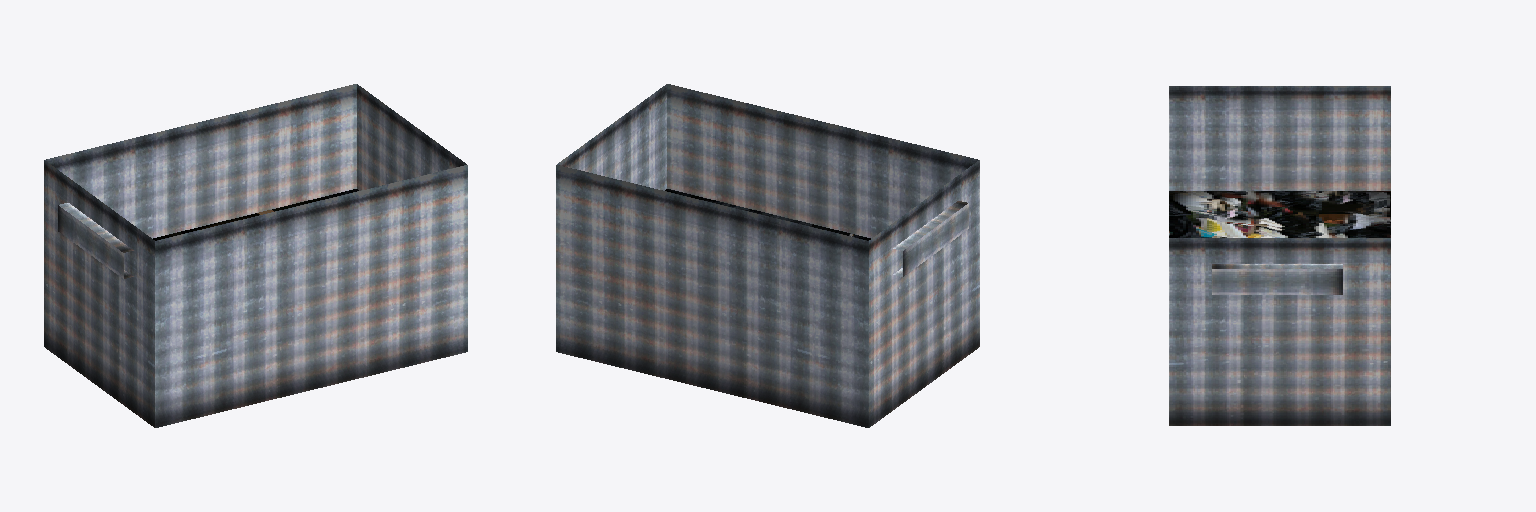
The picture shows the model from 3 angles: view 1: azimuth 30°, elevation 25°; view 2: azimuth 150°, elevation 25°; view 3: azimuth 270°, elevation 25°; orthographic projection.
Visible parts, largest first — view 1: dumpster_5_v1; view 2: dumpster_5_v1; view 3: dumpster_5_v1.
Boxes of the visible parts, x1=… form: dumpster_5_v1: x1=44, y1=84, x2=467, y2=427; dumpster_5_v1: x1=556, y1=84, x2=979, y2=427; dumpster_5_v1: x1=1169, y1=86, x2=1390, y2=425.
Size of the model in its own units: 1.52 by 0.8204 by 0.8772.
1 materials, 1 textured.